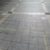others: (1, 3, 50, 50)
